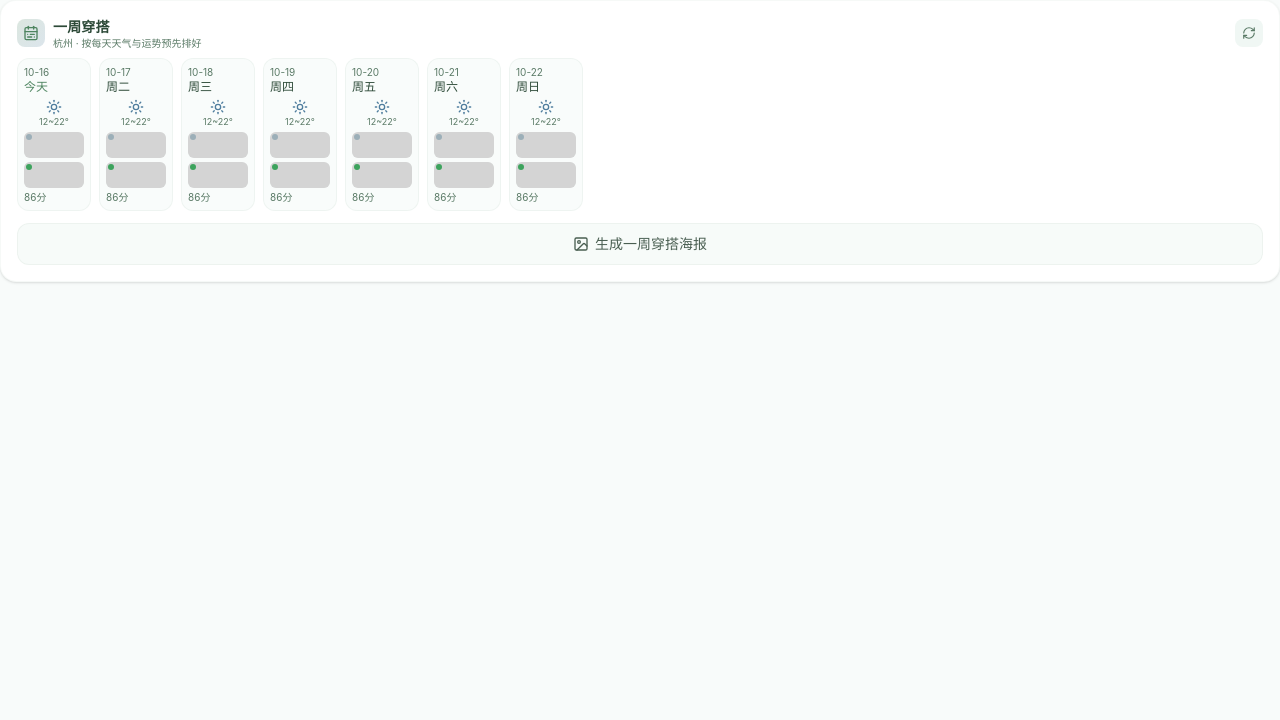
Test: WeeklyOutfitCalendar › 服务端已有今日日记时按钮显示已记入态
Click the button "10-16 今天 12~22° 86分".
click(54, 134)  # box [17,58,91,210]
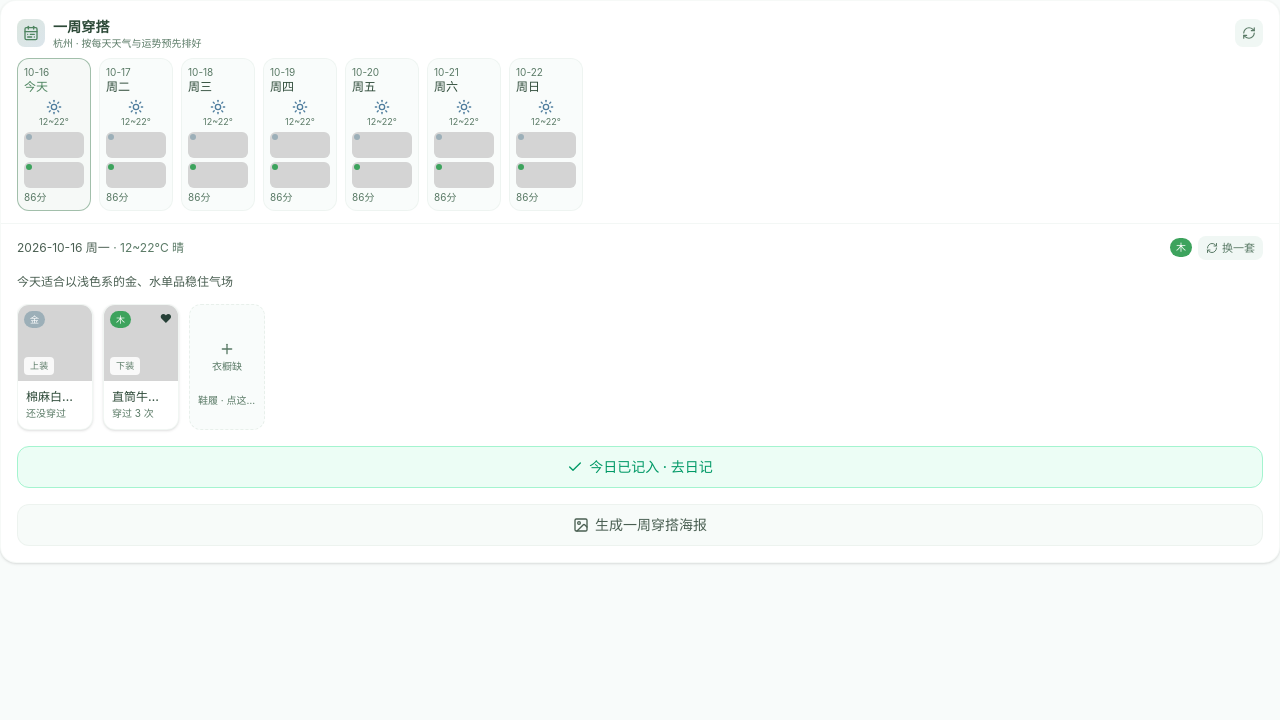
Result: the button "今日已记入 · 去日记" is shown at [17,446,1263,488]
